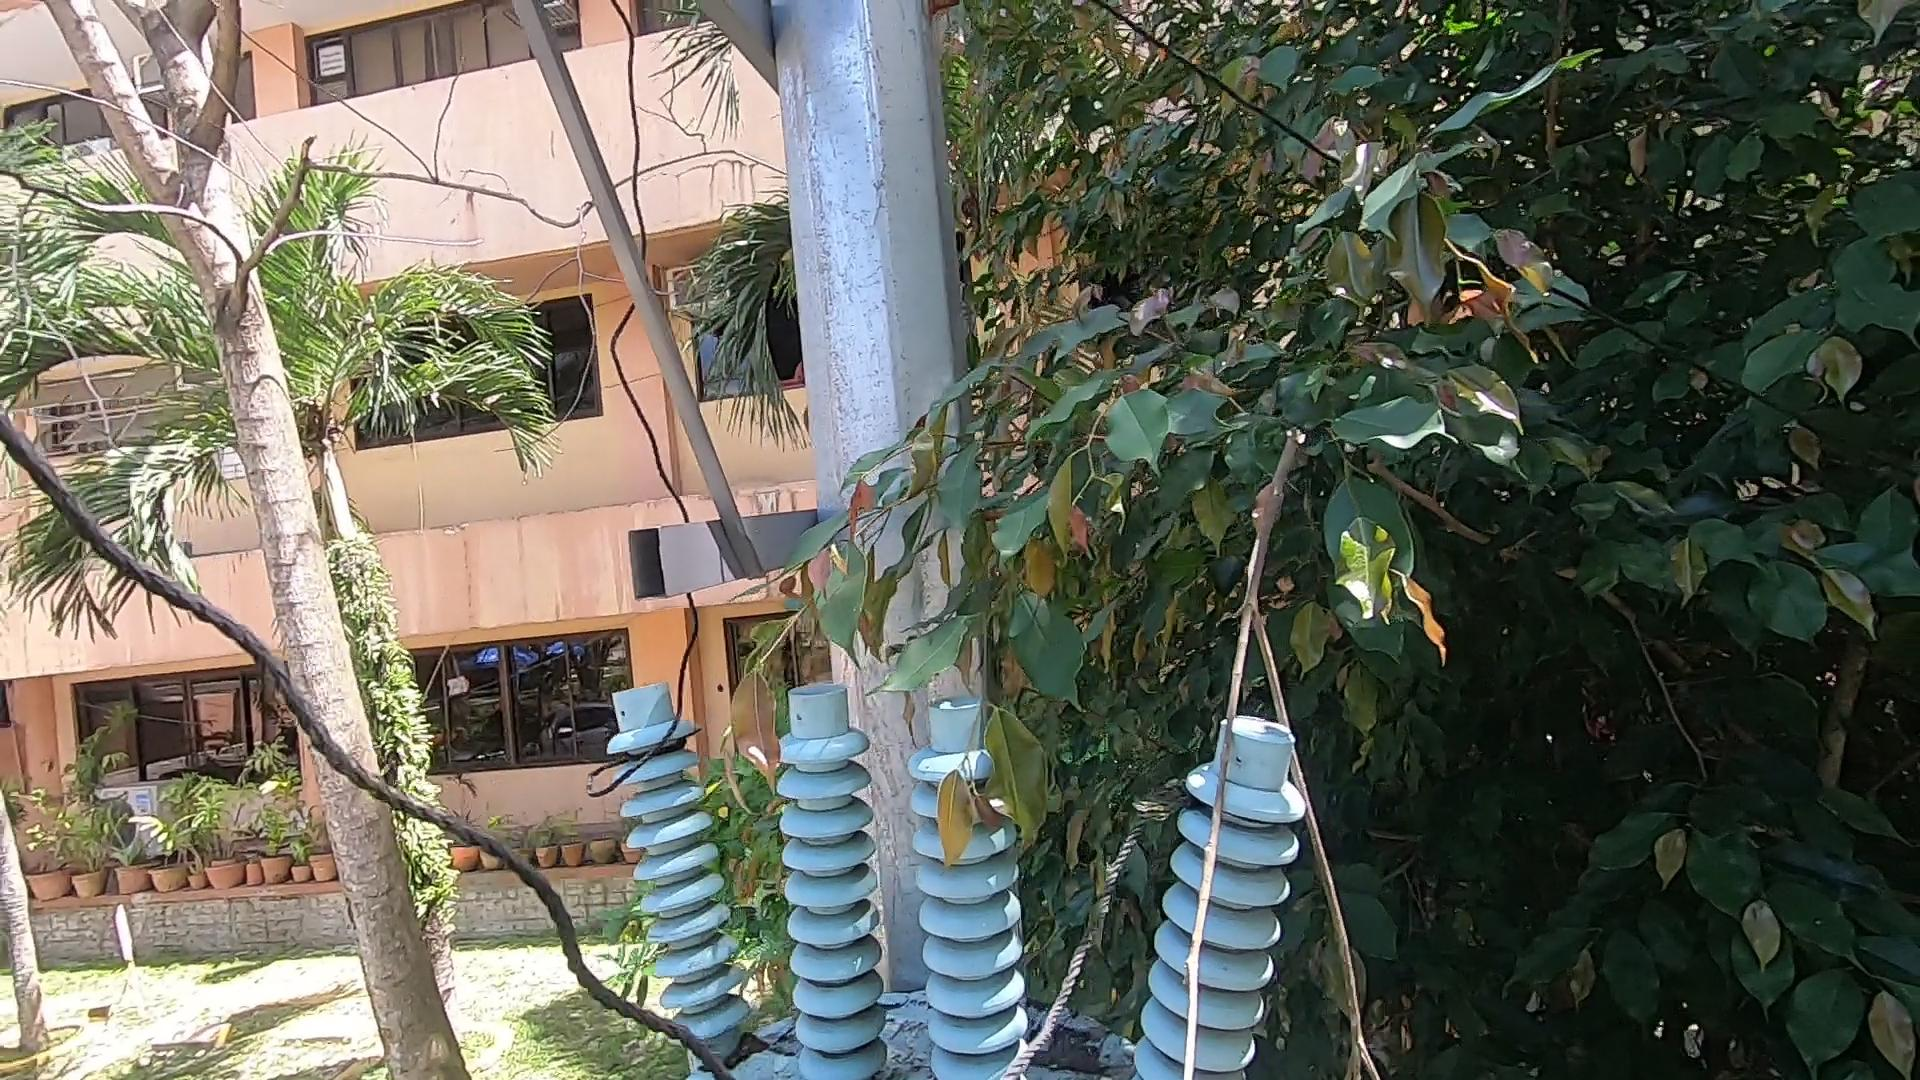tree branch: (1174, 419, 1404, 1077)
